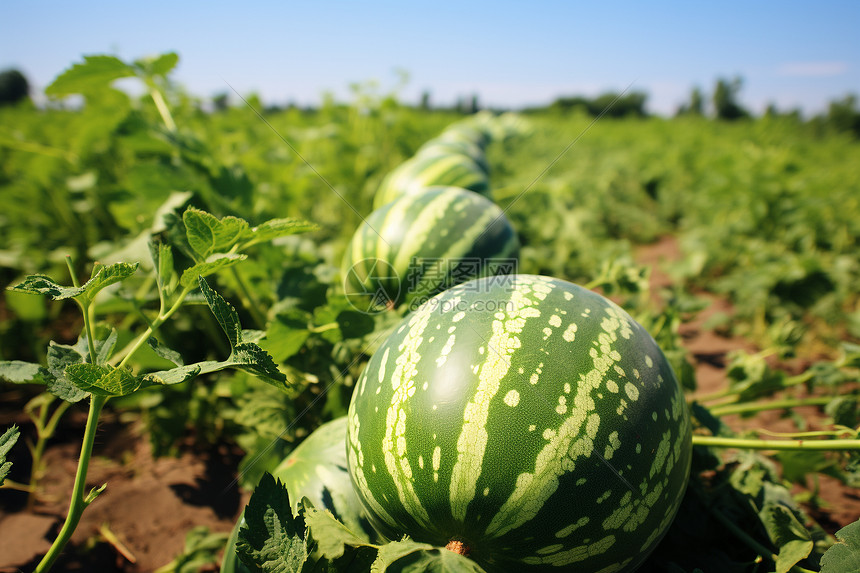watermelon: (347, 278, 689, 563), (343, 184, 521, 311)
